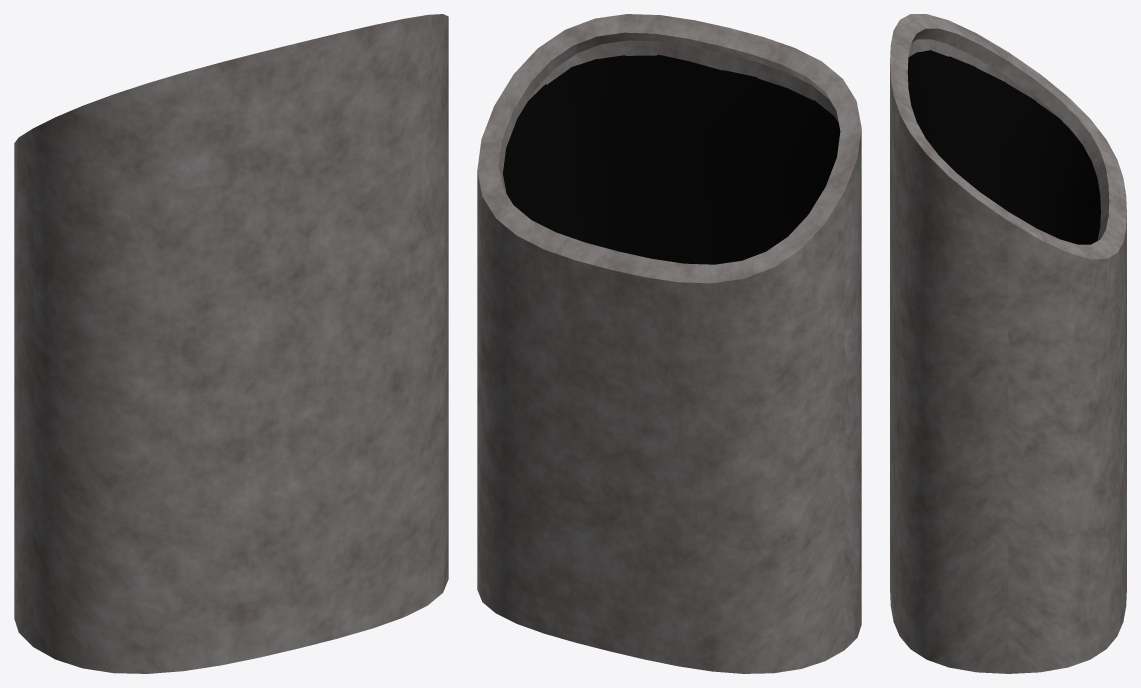
The model's file is trash_can.fbx.
3 views of the same model, side by side, from view 1: azimuth 30°, elevation 25°; view 2: azimuth 150°, elevation 25°; view 3: azimuth 270°, elevation 25° (orthographic). The views are drawn at different scales.
Visible parts, largest first — view 1: Cylinder.001; view 2: Cylinder.001; view 3: Cylinder.001.
Part boxes in pixels (x1,y1,x2,y2): Cylinder.001: [14, 14, 448, 673]; Cylinder.001: [477, 14, 861, 673]; Cylinder.001: [890, 14, 1126, 673].
Size of the model in its own units: 83.41 by 122 by 49.45.
Materials: 2 (2 with a texture image).
